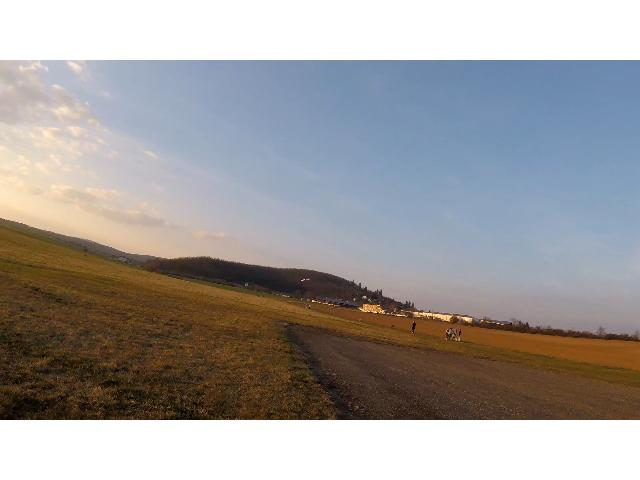Anti-Drone: (296, 271, 316, 289)
